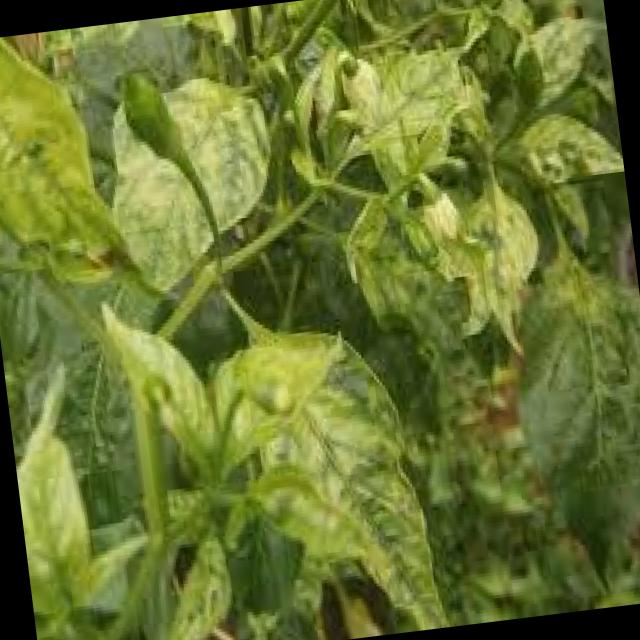Chilli_Leaf_Curl: (0, 0, 640, 640), (275, 0, 640, 379), (95, 263, 451, 640), (489, 197, 640, 590), (93, 54, 286, 298), (4, 354, 160, 640), (0, 24, 135, 297)
